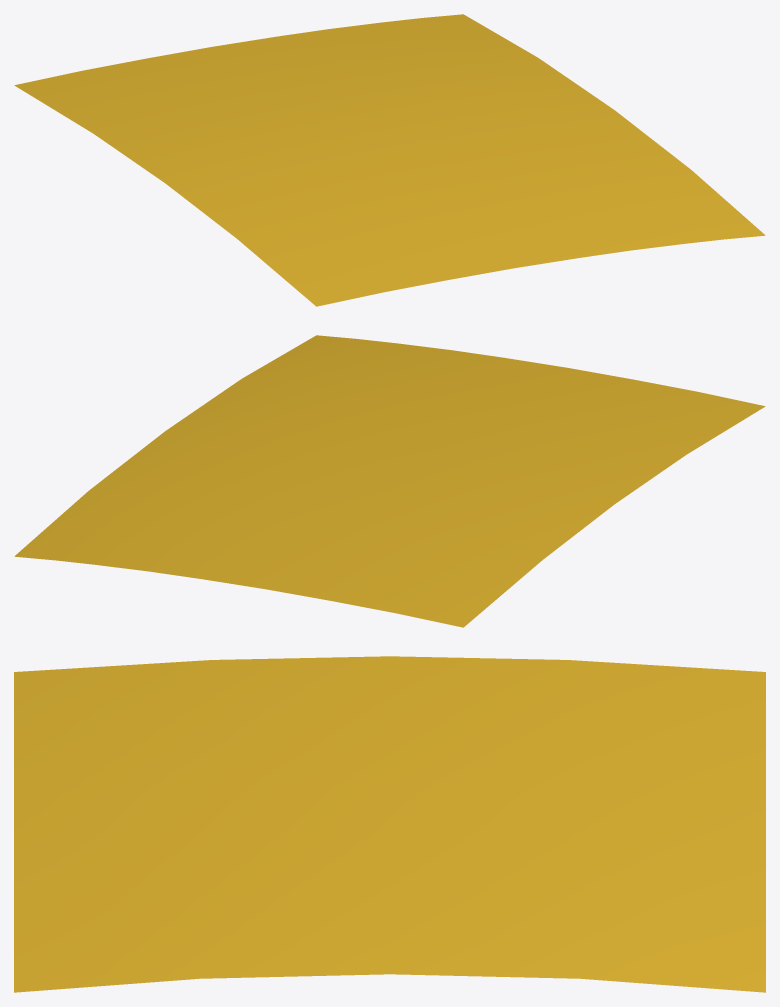
The picture shows the model from 3 angles, top to bottom: view 1: azimuth 30°, elevation 25°; view 2: azimuth 150°, elevation 25°; view 3: azimuth 270°, elevation 25°; orthographic projection. The views are drawn at different scales.
Visible parts, largest first — view 1: P353_20_345A_C_1_DaS_P353_20_345A_C; view 2: P353_20_345A_C_1_DaS_P353_20_345A_C; view 3: P353_20_345A_C_1_DaS_P353_20_345A_C.
Part boxes in pixels (<box>): P353_20_345A_C_1_DaS_P353_20_345A_C: <box>14,14,765,306</box>; P353_20_345A_C_1_DaS_P353_20_345A_C: <box>14,335,765,627</box>; P353_20_345A_C_1_DaS_P353_20_345A_C: <box>14,656,765,992</box>.
Bounding box in the file's own units: 53.19 × 5.8 × 62.01.
